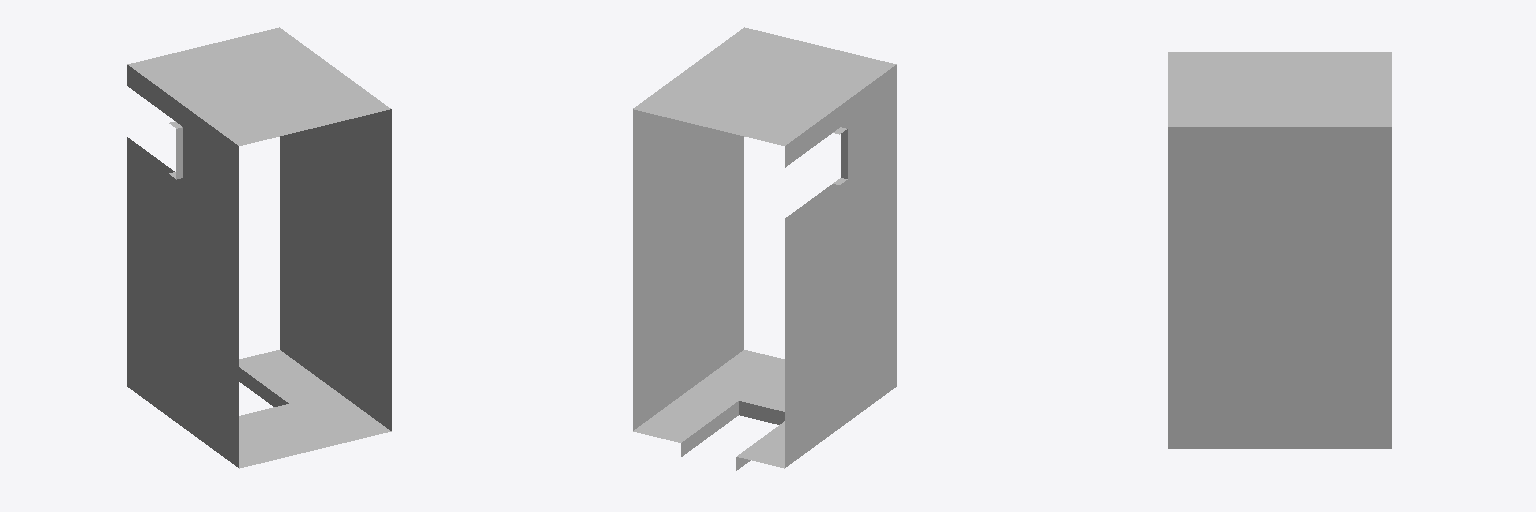
The model's file is StairWellWalls.obj.
3 views of the same model, side by side, from view 1: azimuth 30°, elevation 25°; view 2: azimuth 150°, elevation 25°; view 3: azimuth 270°, elevation 25° (orthographic).
Visible parts, largest first — view 1: Section2.043; view 2: Section2.043; view 3: Section2.043.
Part boxes in pixels (x1,y1,x2,y2): Section2.043: (127, 27, 391, 468); Section2.043: (633, 27, 896, 470); Section2.043: (1168, 52, 1391, 448).
Size of the model in its own units: 3.51 by 7.08 by 4.27.